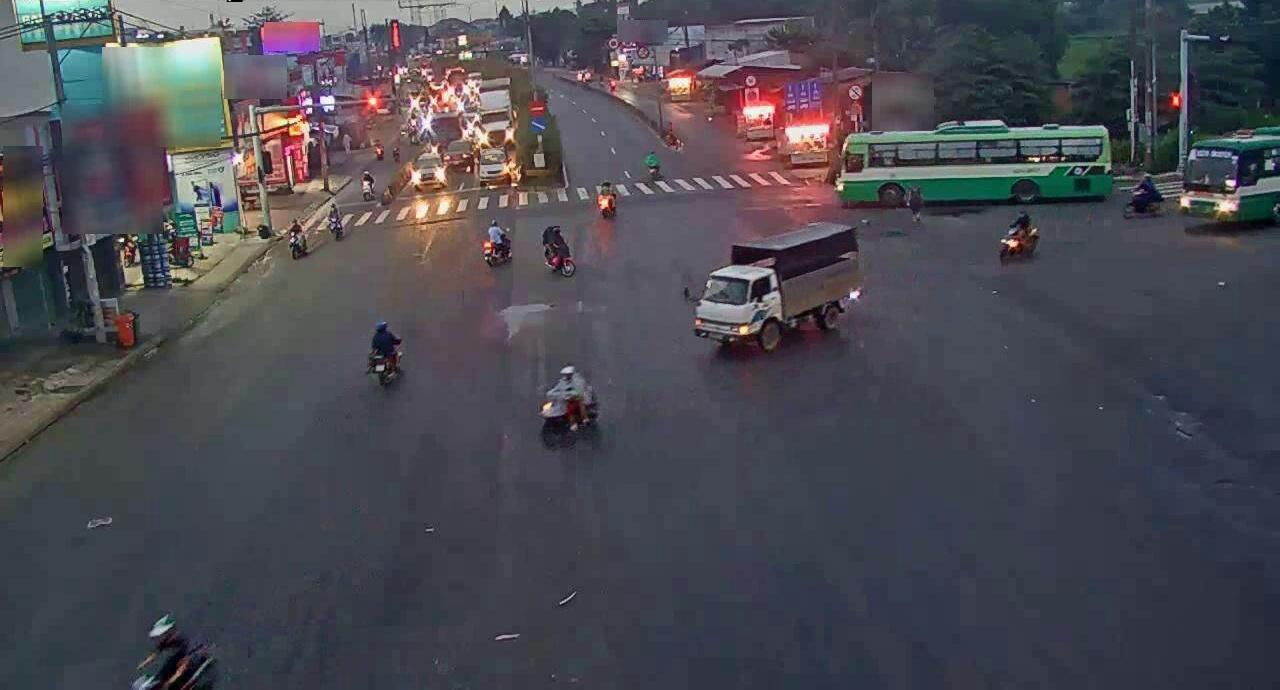xe buyt: (838, 119, 1106, 205)
xe may: (535, 363, 597, 439), (363, 318, 405, 393), (539, 224, 576, 277), (482, 221, 515, 273)
xe tai: (692, 219, 858, 351)
